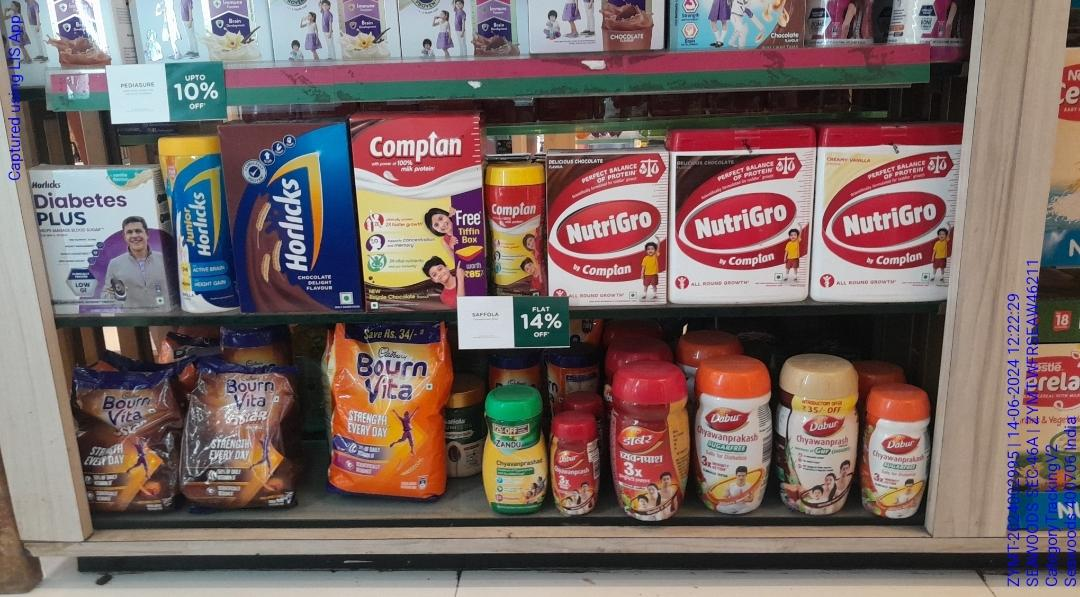BOURN_VITA_FIVE_STAR_MAGIC_500_G_POUCH: (184, 357, 294, 515), (84, 368, 175, 511)
COMPLAN_CHOCOLATE_500_GMS_JAR: (491, 167, 542, 297)
COMPLAN_CHOCOLATE_500_GMS_PACK: (363, 117, 487, 294)
HORLICKS_JUNIOR_VANILLA_500_GM_JAR: (165, 139, 224, 314)
